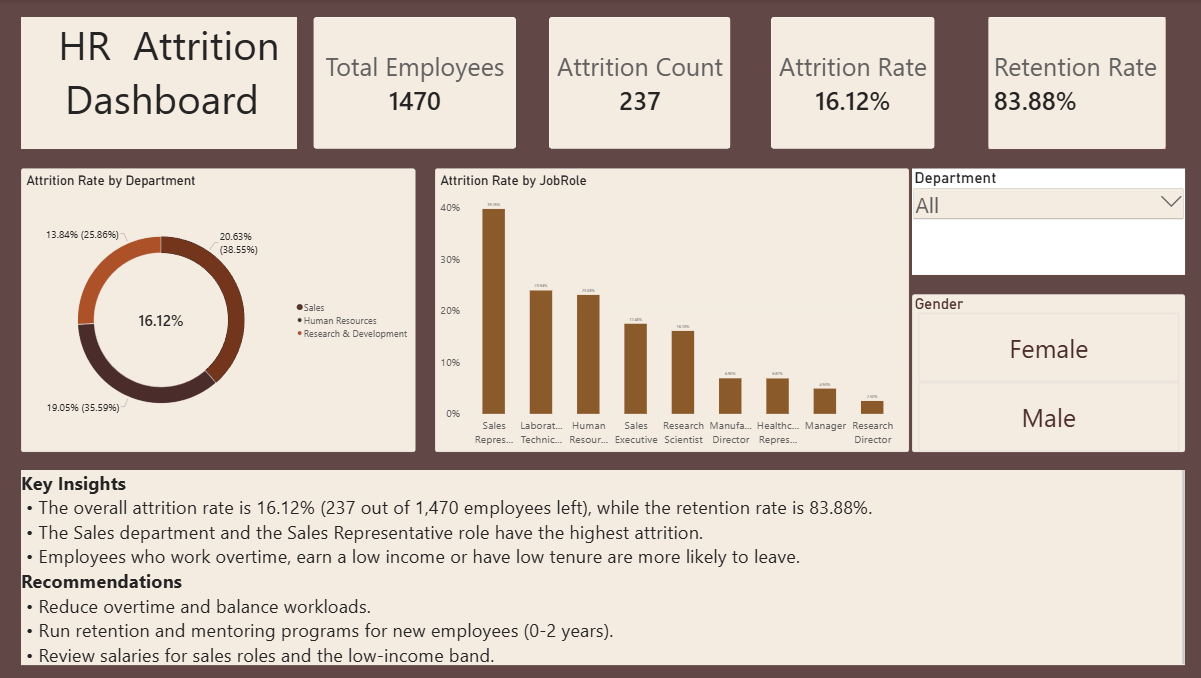

The page's visual inventory and layout, read from the dashboard file:
{"tool":"powerbi","page":{"name":"Overview","canvas":[3840,2160],"ordinal":0},"visuals":[{"type":"cardVisual","fields":{"Data":["WA_Fn-UseC_-HR-Employee-Attrition.Total Employees"]},"box":[997.3,57.3,644.2,419.9],"z":0},{"type":"cardVisual","fields":{"Data":["WA_Fn-UseC_-HR-Employee-Attrition.Attrition Count"]},"box":[1746.5,57.3,577.4,419.9],"z":1000},{"type":"cardVisual","fields":{"Data":["WA_Fn-UseC_-HR-Employee-Attrition.Attrition Rate"]},"box":[2452.7,57.3,520.1,419.9],"z":2000},{"type":"textbox","box":[66.8,57.3,878,419.9],"z":3000},{"type":"cardVisual","fields":{"Data":["HR.Retention Rate"]},"box":[3144.6,57.3,563.1,419.9],"z":4000},{"type":"donutChart","fields":{"Category":["HR.Department"],"Y":["HR.Attrition Rate"]},"box":[66.8,539.2,1255,901.9],"z":5000},{"type":"columnChart","fields":{"Category":["HR.JobRole"],"Y":["HR.Attrition Rate"]},"box":[1383.8,539.2,1507.9,901.9],"z":6000},{"type":"slicer","fields":{"Values":["HR.Department"]},"box":[2901.3,539.2,868.5,338.8],"z":7000},{"type":"slicer","fields":{"Values":["HR.Gender"]},"box":[2901.3,940.1,868.5,501],"z":8000},{"type":"textbox","box":[66.8,1498.4,3702.9,620.3],"z":9000}]}

Visuals, with their boxes in screenshot pixels (x1, y1, x2, y2), scaled from the page's 3840x2160 canvas onto the 1201x678 screenshot:
cardVisual - WA_Fn-UseC_-HR-Employee-Attrition.Total Employees: bbox(312, 18, 513, 150)
cardVisual - WA_Fn-UseC_-HR-Employee-Attrition.Attrition Count: bbox(546, 18, 727, 150)
cardVisual - WA_Fn-UseC_-HR-Employee-Attrition.Attrition Rate: bbox(767, 18, 930, 150)
textbox: bbox(21, 18, 295, 150)
cardVisual - HR.Retention Rate: bbox(984, 18, 1160, 150)
donutChart - HR.Department x HR.Attrition Rate: bbox(21, 169, 413, 452)
columnChart - HR.JobRole x HR.Attrition Rate: bbox(433, 169, 904, 452)
slicer - HR.Department: bbox(907, 169, 1179, 276)
slicer - HR.Gender: bbox(907, 295, 1179, 452)
textbox: bbox(21, 470, 1179, 665)
